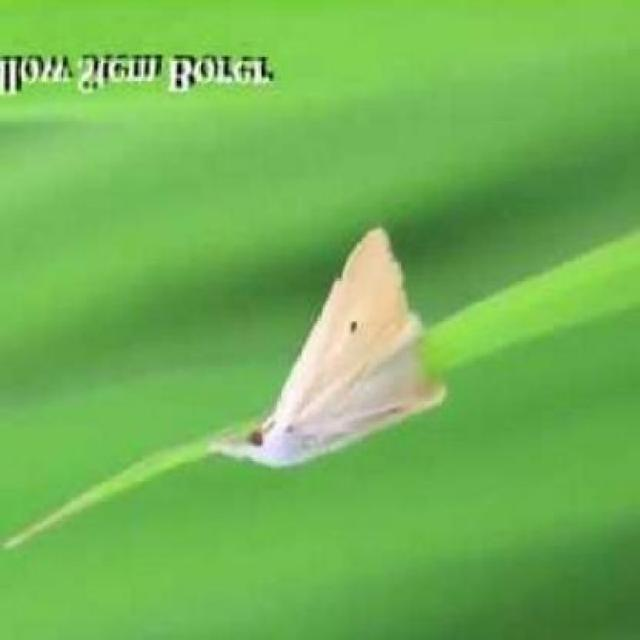stem-borer: (208, 225, 450, 472)
